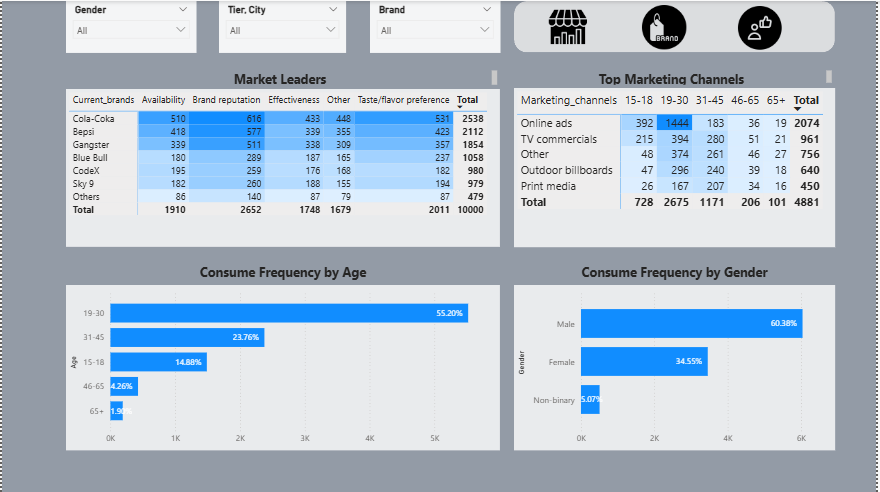

Layout of this report page (visuals, bound fields, positions):
{"tool":"powerbi","page":{"name":"Market Overview","canvas":[1280,720],"ordinal":0},"visuals":[{"type":"clusteredBarChart","fields":{"Category":["dim_repondents.Gender"],"Y":["CountNonNull(fact_survey_responses.Consume_frequency)"]},"box":[748.8,415,469.7,242.2],"z":0},{"type":"barChart","fields":{"Category":["dim_repondents.Age"],"Y":["CountNonNull(fact_survey_responses.Consume_frequency)"]},"box":[93,415,635.1,242.2],"z":1000},{"type":"pivotTable","fields":{"Rows":["fact_survey_responses.Current_brands"],"Values":["CountNonNull(fact_survey_responses.Current_brands)"],"Columns":["fact_survey_responses.Reasons_for_choosing_brands"]},"box":[93.7,128.8,635.1,231.2],"z":2000},{"type":"pivotTable","fields":{"Rows":["fact_survey_responses.Marketing_channels"],"Values":["CountNonNull(fact_survey_responses.Marketing_channels)"],"Columns":["dim_repondents.Age"]},"box":[748.8,127,469.7,233.4],"z":3000},{"type":"slicer","fields":{"Values":["dim_repondents.Gender"]},"box":[93.1,0,190.5,75.6],"z":4000},{"type":"slicer","fields":{"Values":["dim_cities.Tier","dim_cities.City"]},"box":[317.1,0,186.2,75.6],"z":5000},{"type":"slicer","fields":{"Values":["fact_survey_responses.Current_brands"]},"box":[538.2,0,190.5,75.6],"z":6000},{"type":"textbox","box":[93.1,96,635.6,33.5],"z":7000},{"type":"textbox","box":[748.8,96,469.7,31],"z":8000},{"type":"textbox","box":[93,379.6,635.1,35.4],"z":9000},{"type":"textbox","box":[748.8,379.6,469.7,35.4],"z":10000},{"type":"shape","box":[748.8,0,469.7,75.3],"z":11000},{"type":"image","box":[898,5.9,141.8,65],"z":12000},{"type":"image","box":[757.7,5.9,140.3,63.5],"z":13000},{"type":"image","box":[1039.8,7.4,140.3,63.5],"z":14000}]}

Visuals, with their boxes in screenshot pixels (x1, y1, x2, y2), scaled from the page's 1280x720 canvas onto the 880x492 screenshot:
clusteredBarChart - dim_repondents.Gender x CountNonNull(fact_survey_responses.Consume_frequency): box=[515, 284, 838, 449]
barChart - dim_repondents.Age x CountNonNull(fact_survey_responses.Consume_frequency): box=[64, 284, 501, 449]
pivotTable - fact_survey_responses.Current_brands x CountNonNull(fact_survey_responses.Current_brands): box=[64, 88, 501, 246]
pivotTable - fact_survey_responses.Marketing_channels x CountNonNull(fact_survey_responses.Marketing_channels): box=[515, 87, 838, 246]
slicer - dim_repondents.Gender: box=[64, 0, 195, 52]
slicer - dim_cities.Tier x dim_cities.City: box=[218, 0, 346, 52]
slicer - fact_survey_responses.Current_brands: box=[370, 0, 501, 52]
textbox: box=[64, 66, 501, 88]
textbox: box=[515, 66, 838, 87]
textbox: box=[64, 259, 501, 284]
textbox: box=[515, 259, 838, 284]
shape: box=[515, 0, 838, 51]
image: box=[617, 4, 715, 48]
image: box=[521, 4, 617, 47]
image: box=[715, 5, 811, 48]
